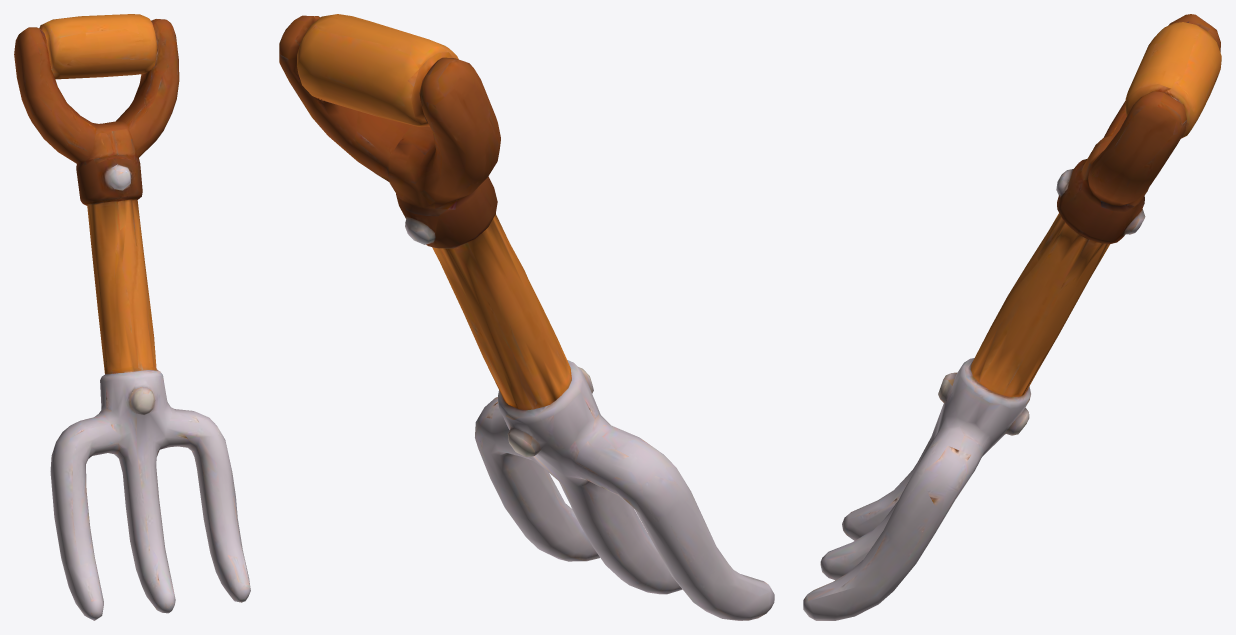
3 renders of one model, left to right at view 1: azimuth 30°, elevation 25°; view 2: azimuth 150°, elevation 25°; view 3: azimuth 270°, elevation 25°, orthographic. The views are drawn at different scales.
Visible parts, largest first — view 1: pitchfork; view 2: pitchfork; view 3: pitchfork.
Part boxes in pixels (left/top/right/bottom): pitchfork: left=14, top=14, right=250, bottom=620; pitchfork: left=279, top=14, right=774, bottom=620; pitchfork: left=803, top=14, right=1221, bottom=620.
Size of the model in its own units: 0.5594 by 1.2 by 0.7895.
1 material, 1 textured.
